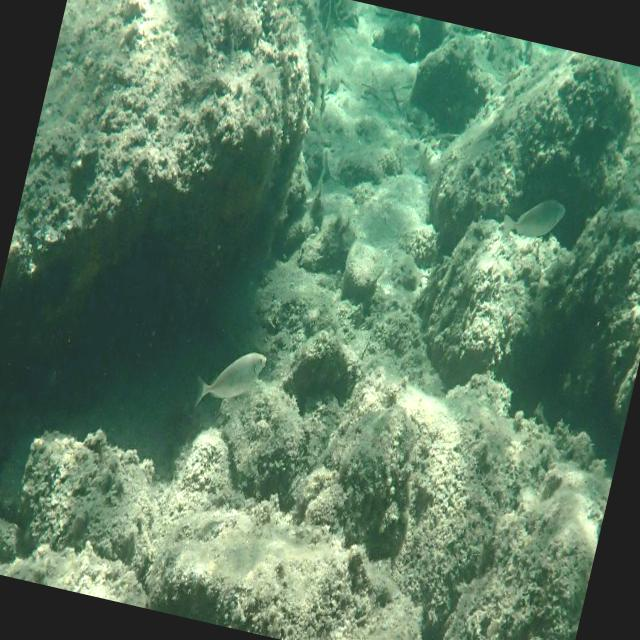Sokar Baligi: (178, 320, 278, 440), (488, 173, 572, 268)
